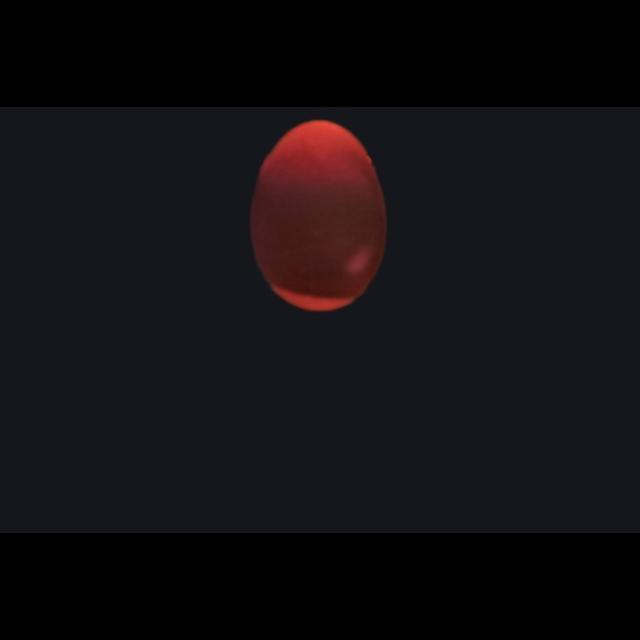Fertile: (248, 121, 388, 311)
